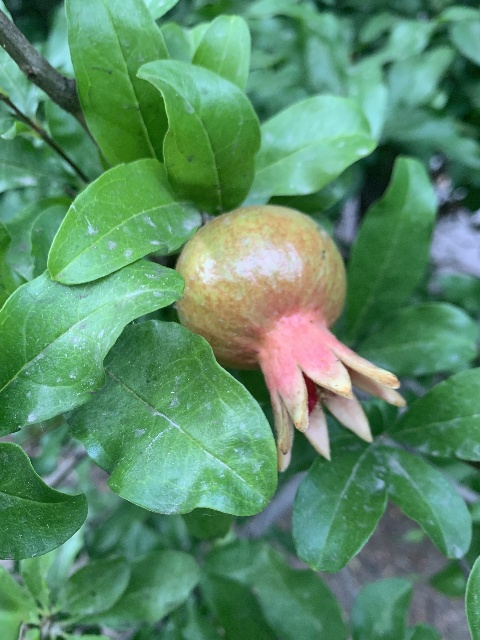early-fruit: (173, 204, 403, 470)
